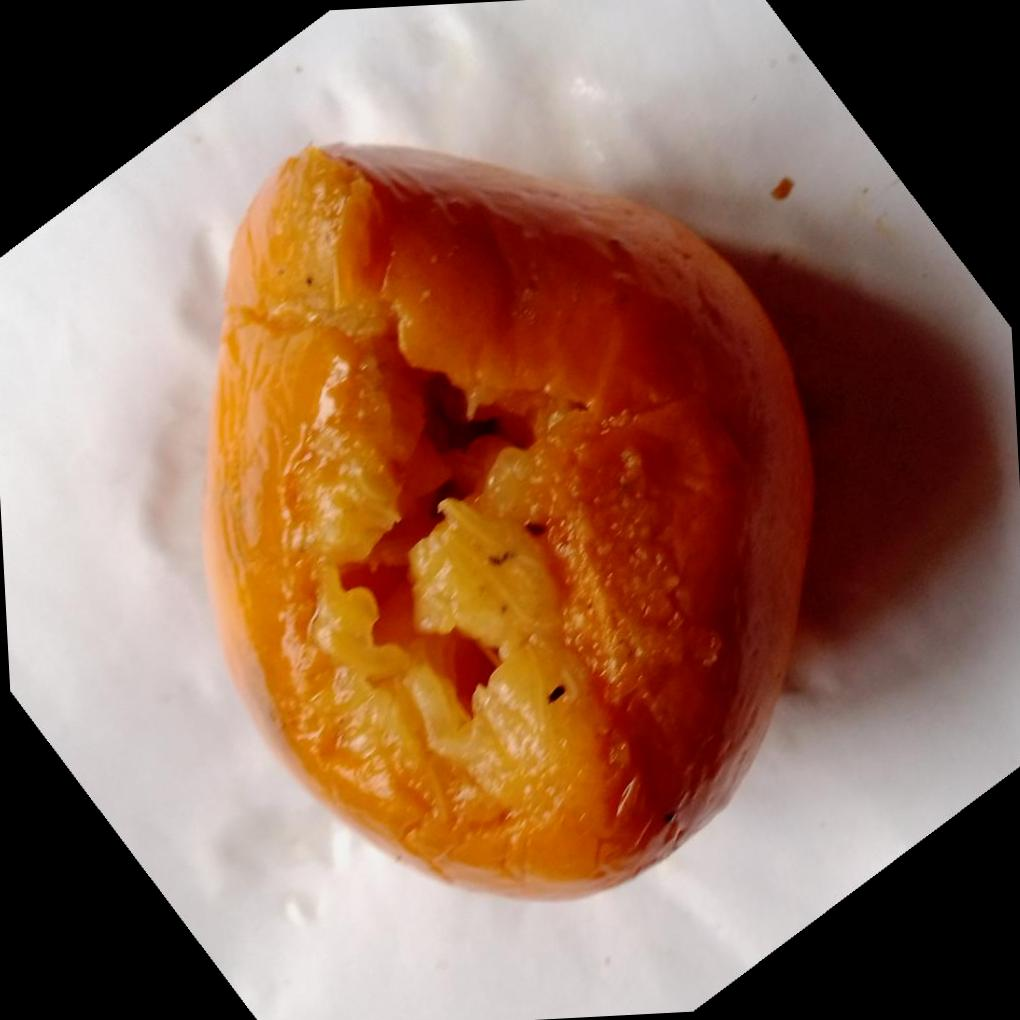FreshOrange: (200, 139, 817, 898)
